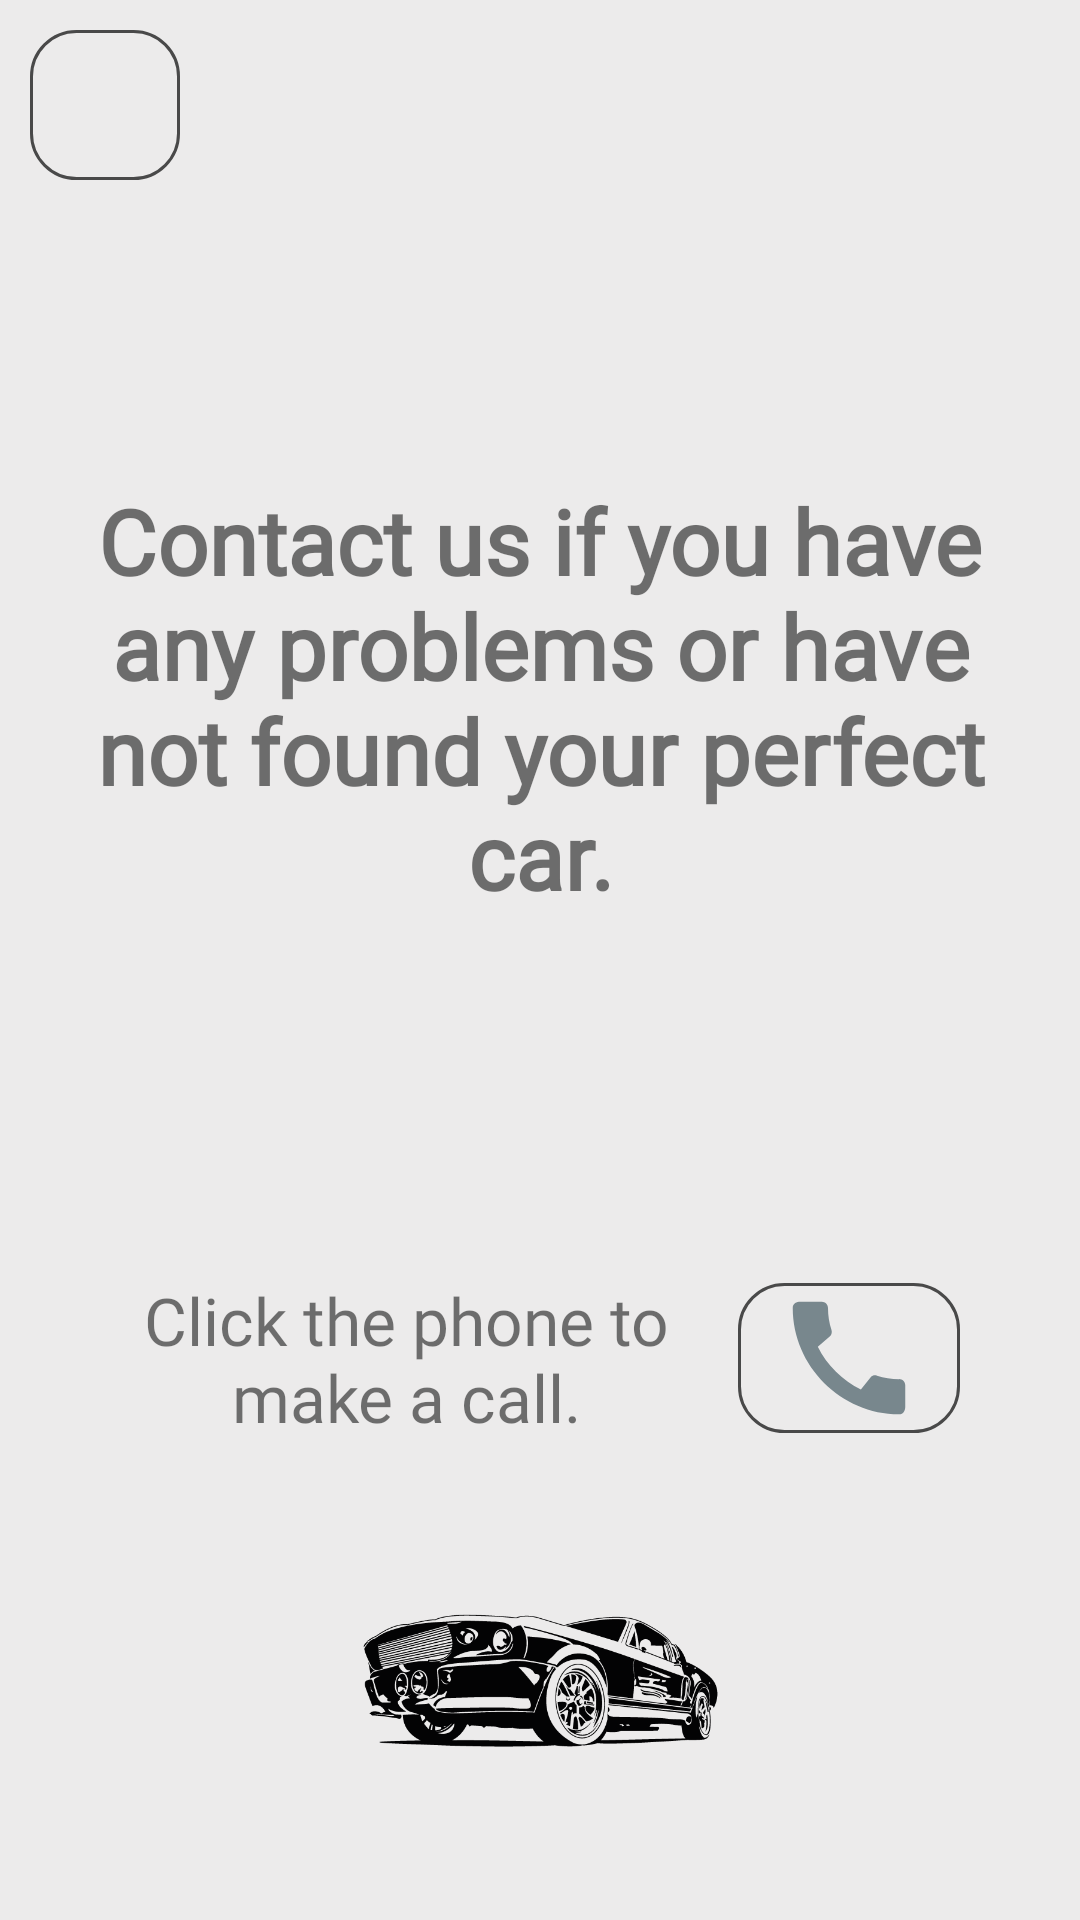

Icon bounding boxes for this 1080×1920 phone screenshot, format box=[x1, y1, x2, y2]:
callcenter: box=[738, 1283, 960, 1433]
